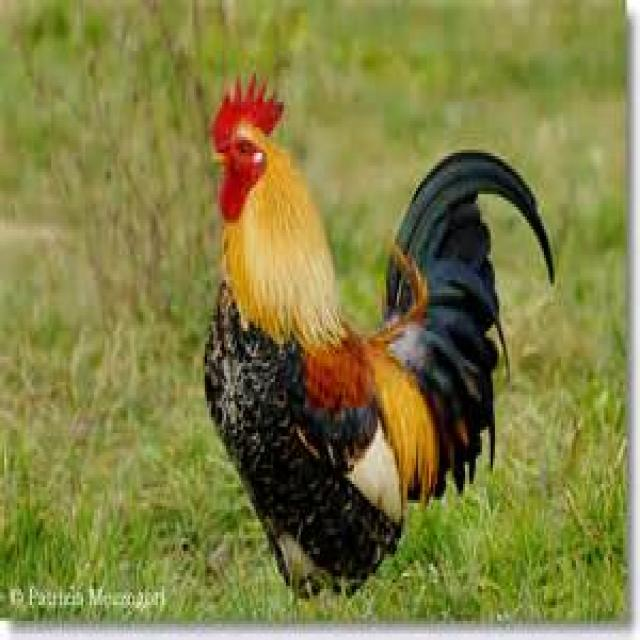hen: (205, 78, 552, 590)
